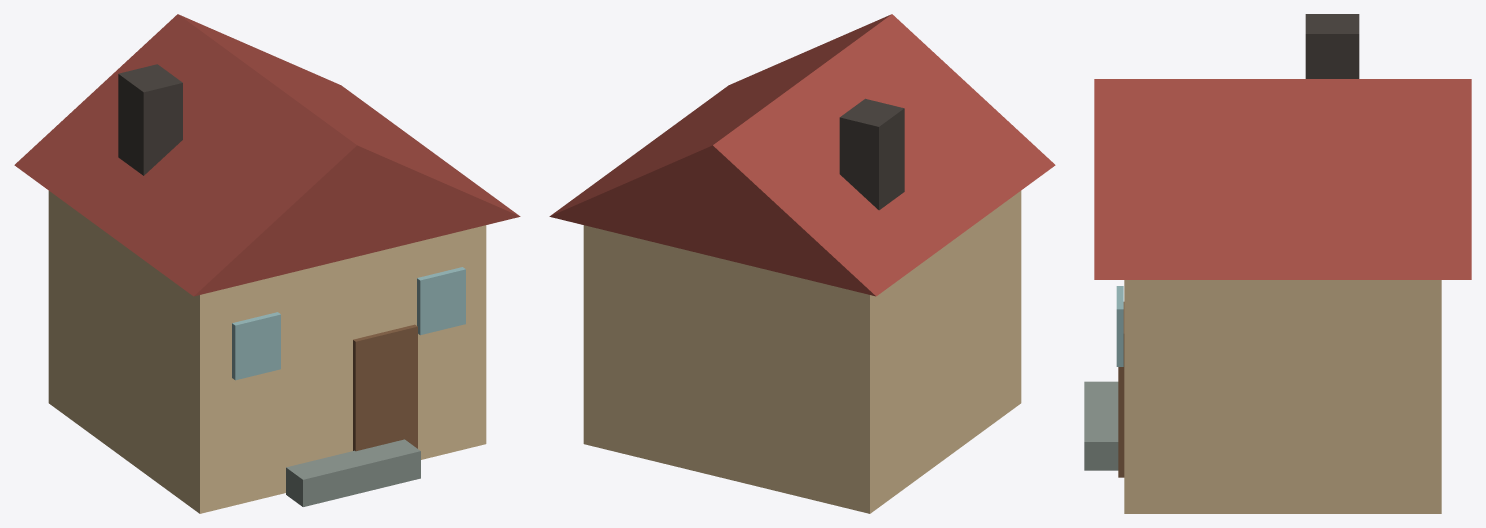
Rendered from bld_house_a.glb.
3 renders of one model, left to right at view 1: azimuth 30°, elevation 25°; view 2: azimuth 150°, elevation 25°; view 3: azimuth 270°, elevation 25°, orthographic. The views are drawn at different scales.
Parts seen in each view (by area): view 1: bld_house_a; view 2: bld_house_a; view 3: bld_house_a.
Part boxes in pixels (x1=…): bld_house_a: x1=14, y1=14, x2=520, y2=513; bld_house_a: x1=549, y1=14, x2=1055, y2=513; bld_house_a: x1=1084, y1=14, x2=1471, y2=513.
Size of the model in its own units: 2 by 2.05 by 1.95.
1 material, 1 textured.
